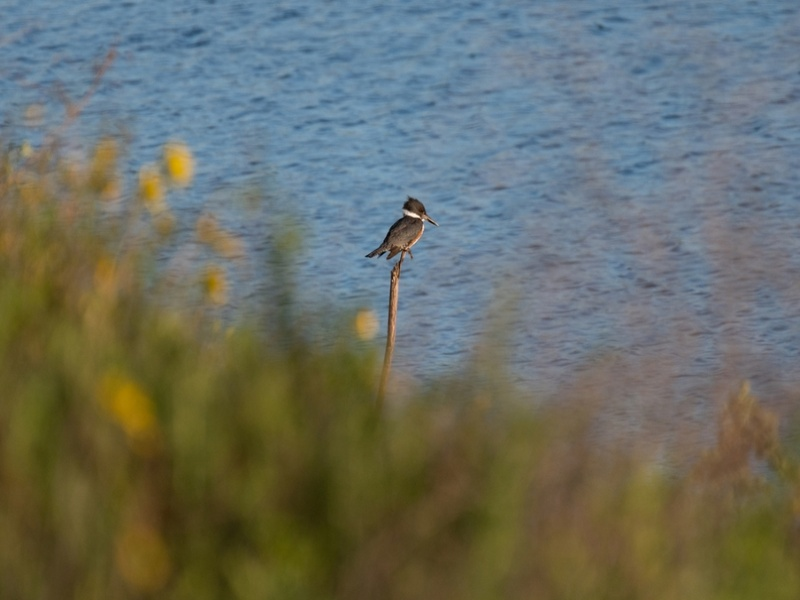kingfisher: (364, 196, 438, 270)
